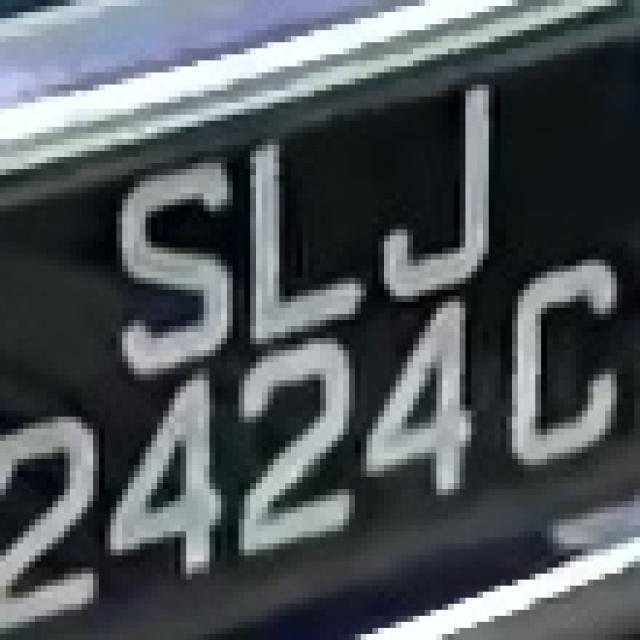2: (221, 332, 361, 562), (0, 398, 105, 640)
4: (93, 368, 244, 580), (349, 278, 483, 507)
C: (494, 254, 628, 471)
J: (372, 60, 507, 308)
L: (245, 115, 372, 350)
S: (99, 163, 227, 374)
